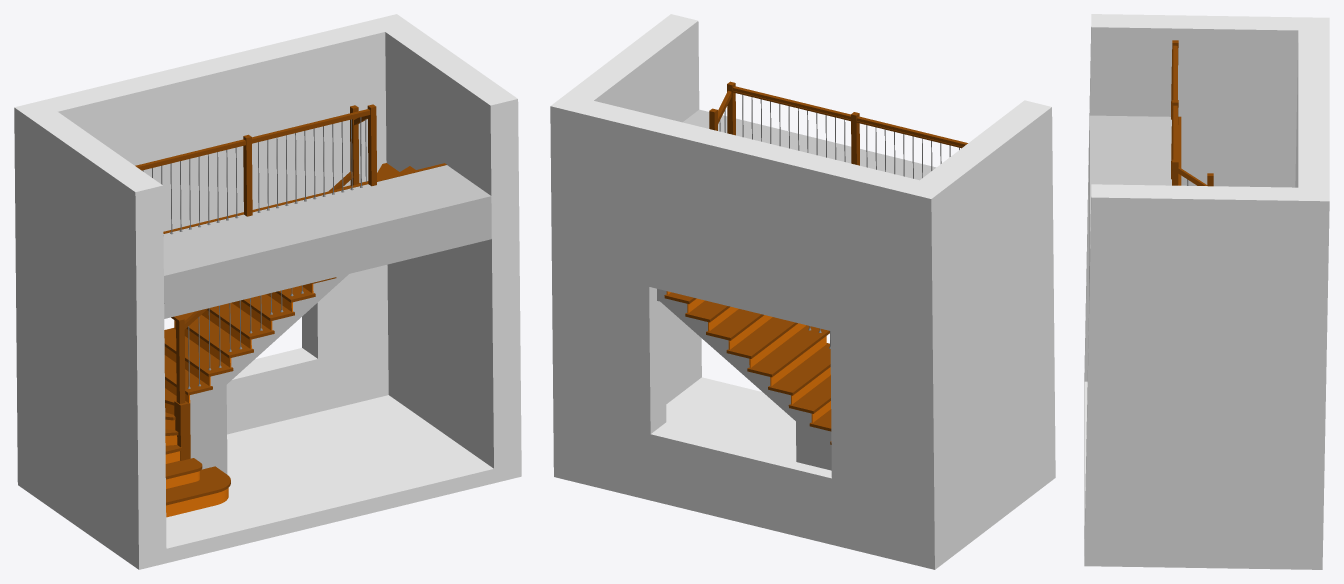
The model's file is 3D Сборка 1.obj.
3 renders of one model, left to right at view 1: azimuth 30°, elevation 25°; view 2: azimuth 150°, elevation 25°; view 3: azimuth 270°, elevation 25°, orthographic.
Bounding box in the file's own units: 5.55 × 5.25 × 3.14.
